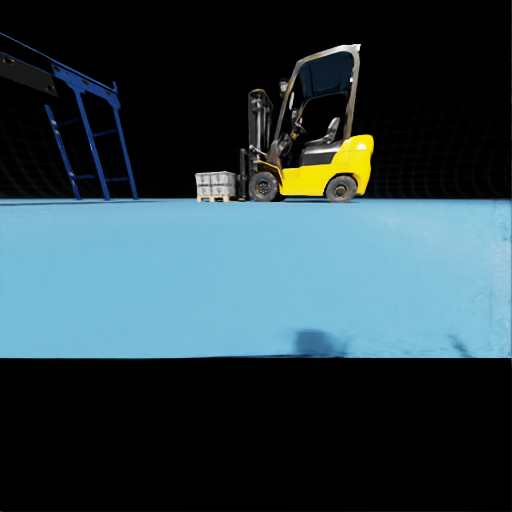transportation_area: (211, 184, 239, 194)
